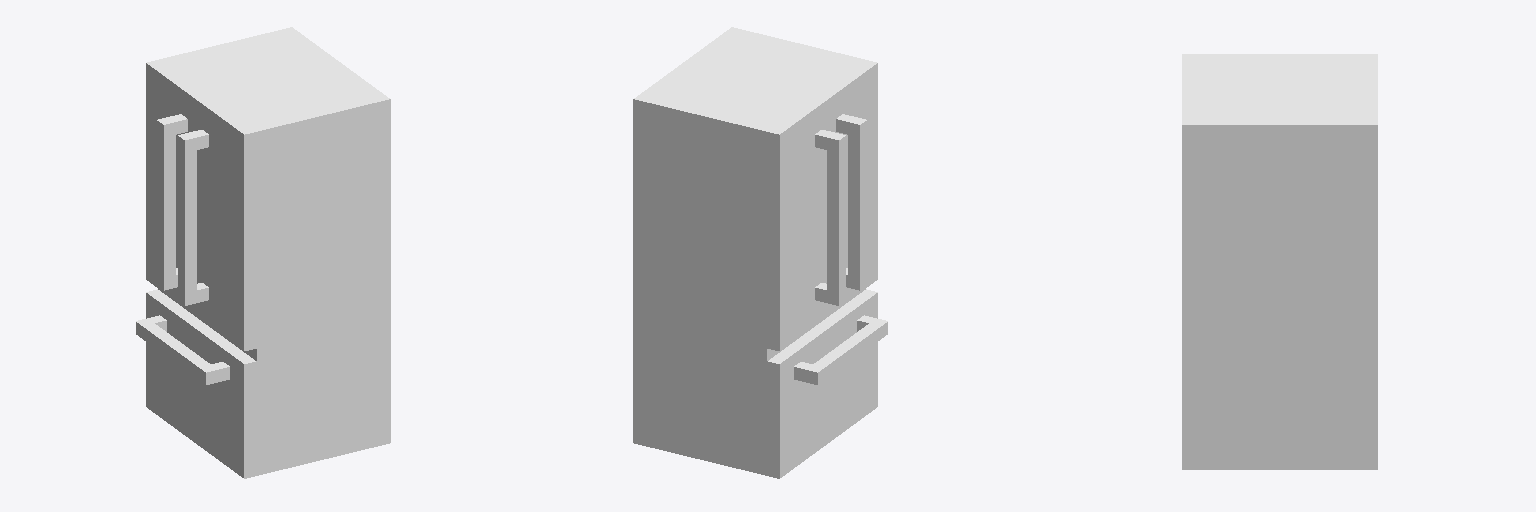
The model's file is modern:fridge.obj.
3 views of the same model, side by side, from view 1: azimuth 30°, elevation 25°; view 2: azimuth 150°, elevation 25°; view 3: azimuth 270°, elevation 25° (orthographic).
Parts seen in each view (by area): view 1: modern:fridge; view 2: modern:fridge; view 3: modern:fridge.
Part boxes in pixels (bbox=[...]): modern:fridge: bbox=[136, 27, 390, 478]; modern:fridge: bbox=[633, 27, 887, 478]; modern:fridge: bbox=[1182, 54, 1377, 469].
Bounding box in the file's own units: 14 × 27 × 14.